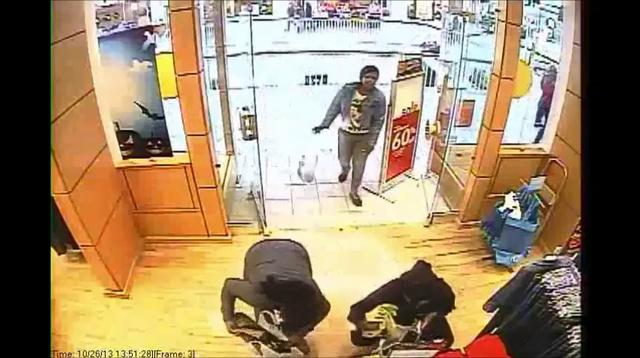1: (367, 303, 404, 330), (266, 322, 288, 356)
3: (309, 34, 399, 151)
4: (225, 142, 339, 358), (349, 145, 456, 358)
persone: (247, 309, 312, 355), (384, 318, 435, 358)
